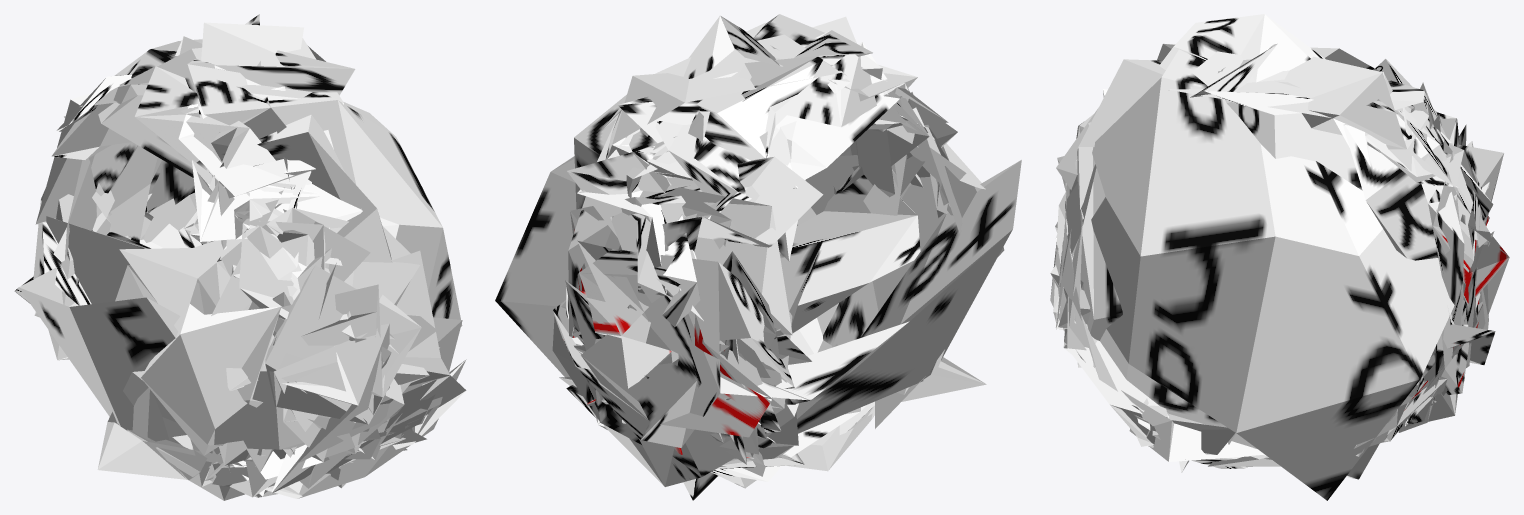
Rendered from paperball6.fbx.
3 renders of one model, left to right at view 1: azimuth 30°, elevation 25°; view 2: azimuth 150°, elevation 25°; view 3: azimuth 270°, elevation 25°, orthographic. The views are drawn at different scales.
Parts seen in each view (by area): view 1: Plane; view 2: Plane; view 3: Plane.
Boxes of the visible parts, bbox=[...] form: Plane: bbox=[14, 14, 466, 500]; Plane: bbox=[495, 14, 1021, 500]; Plane: bbox=[1050, 14, 1509, 500].
Size of the model in its own units: 45.07 by 46.1 by 44.94.
1 material, 1 textured.
